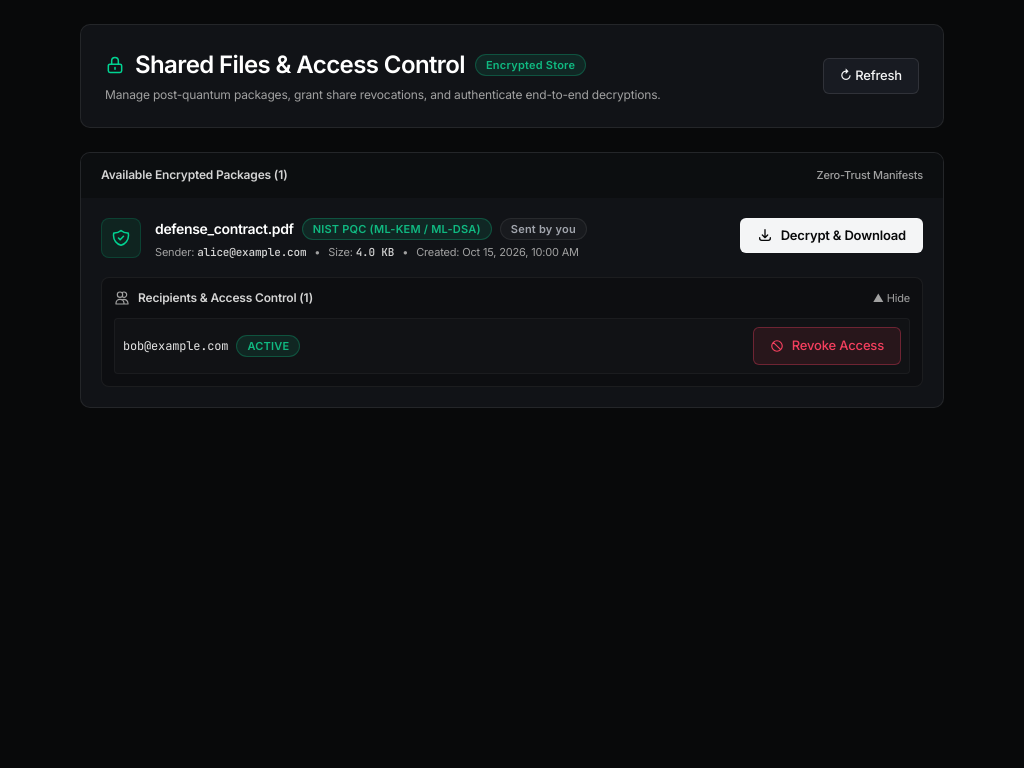
Test: FileList and Decryption Component › Phase 6 Revocation UI (Task 6.3) › dismisses confirmation modal when cancel button is clicked
What coordinates should you click on to do the following:
click the button with test id "revoke-btn-grant-bob-101"
I would click on:
 (827, 346)
Its box is [753,327,901,364].
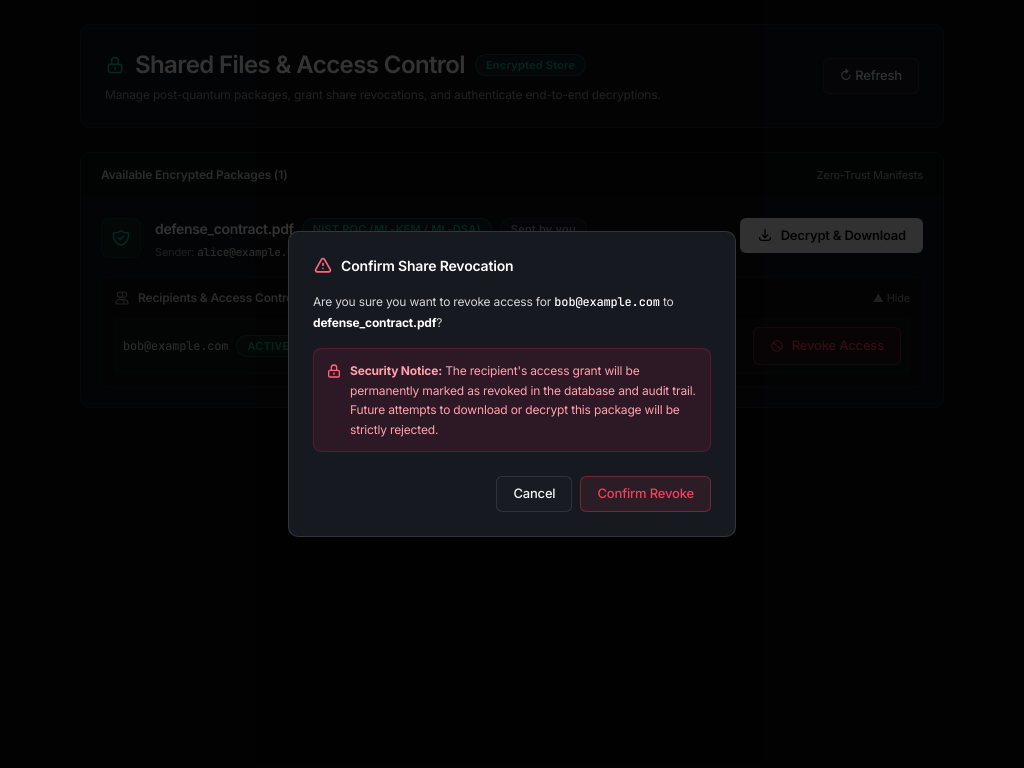
expect the dialog with test id "revoke-confirmation-modal" is shown: met
Click cancel
What coordinates should you click on to do the following:
click the button with test id "cancel-revoke-btn"
I would click on:
 (534, 494)
Its box is [496,476,572,512].
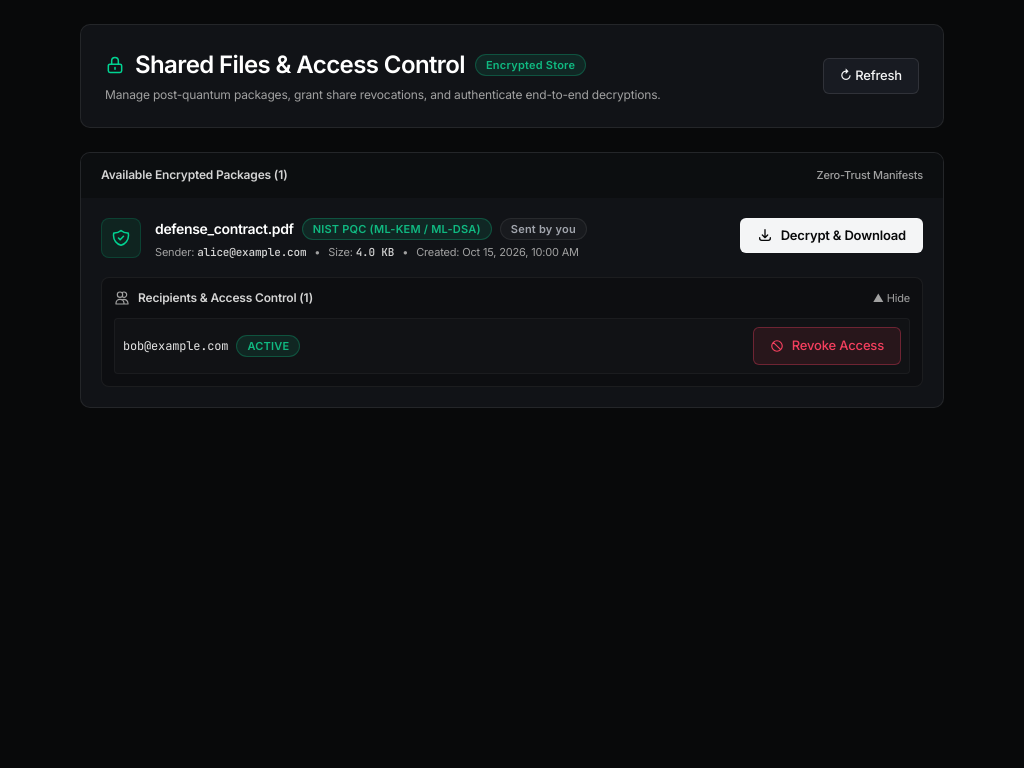
expect the dialog with test id "revoke-confirmation-modal" is gone: met
